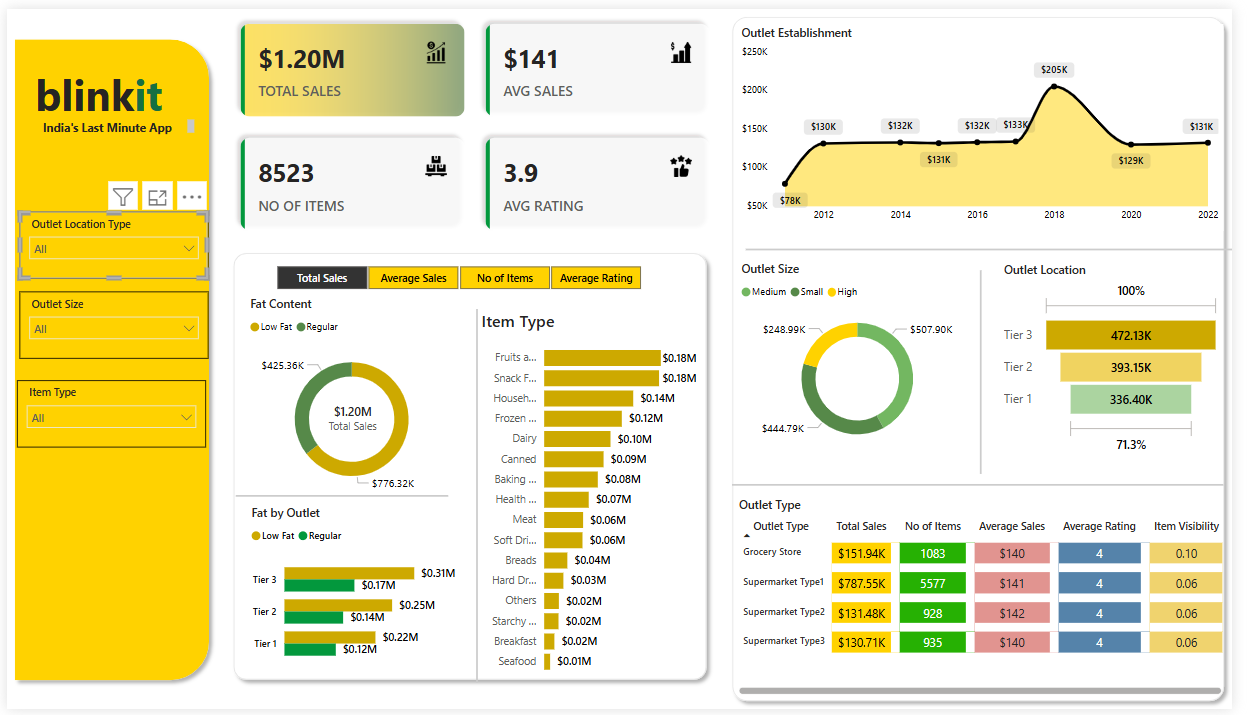

Layout of this report page (visuals, bound fields, positions):
{"tool":"powerbi","page":{"name":"Page 1","canvas":[1400,800],"ordinal":0},"visuals":[{"type":"shape","box":[0,25.5,240,750.4],"z":0},{"type":"textbox","box":[0,60,210,73.8],"z":1000},{"type":"textbox","box":[36.2,121.2,183.8,26.2],"z":2000},{"type":"cardVisual","fields":{"Data":["BlinkIT Grocery Data.Total Sales","BlinkIT Grocery Data.Average Sales","BlinkIT Grocery Data.No of Items","BlinkIT Grocery Data.Average Rating"]},"box":[250,0,570,270],"z":3000},{"type":"shape","box":[250,270,558.6,505.7],"z":4000},{"type":"donutChart","title":"Fat Content","fields":{"Y":["BlinkIT Grocery Data.Total Sales"],"Category":["BlinkIT Grocery Data.Item Fat Content"]},"box":[272.9,327.1,242.9,238.6],"z":5000},{"type":"slicer","fields":{"Values":["Metrics.Metrics"]},"box":[282.9,287.1,465.7,40],"z":6000},{"type":"cardVisual","fields":{"Data":["BlinkIT Grocery Data.Total Sales"]},"box":[340,432.9,110,68.6],"z":7000},{"type":"clusteredBarChart","title":"Fat by Outlet","fields":{"Y":["BlinkIT Grocery Data.Total Sales"],"Category":["BlinkIT Grocery Data.Outlet Location Type"],"Series":["BlinkIT Grocery Data.Item Fat Content"]},"box":[274.3,565.7,242.9,194.3],"z":8000},{"type":"shape","box":[261.4,531.4,242.9,50],"z":9000},{"type":"shape","box":[515.7,342.9,42.9,427.1],"z":10000},{"type":"barChart","title":"Item Type","fields":{"Y":["BlinkIT Grocery Data.Total Sales"],"Category":["BlinkIT Grocery Data.Item Type"]},"box":[537.1,342.9,255.7,427.1],"z":11000},{"type":"shape","box":[820,0,580,800],"z":12000},{"type":"lineChart","title":"Outlet Establishment","fields":{"Category":["BlinkIT Grocery Data.Outlet Establishment Year"],"Y":["BlinkIT Grocery Data.Total Sales"]},"box":[834.3,17.1,555.7,235.7],"z":13000},{"type":"shape","box":[844.3,262.9,555.7,24.3],"z":14000},{"type":"donutChart","title":"Outlet Size","fields":{"Y":["BlinkIT Grocery Data.Total Sales"],"Category":["BlinkIT Grocery Data.Outlet Size"]},"box":[834.3,287.1,275.7,225.7],"z":15000},{"type":"shape","box":[1091.4,298.6,42.9,232.9],"z":16000},{"type":"funnel","title":"Outlet Location","fields":{"Y":["Sum(BlinkIT Grocery Data.Sales)"],"Category":["BlinkIT Grocery Data.Outlet Location Type"]},"box":[1134.3,288.6,257.1,224.3],"z":17000},{"type":"shape","box":[828.3,531.7,561.7,25],"z":18000},{"type":"pivotTable","title":"Outlet Type","fields":{"Rows":["BlinkIT Grocery Data.Outlet Type"],"Values":["BlinkIT Grocery Data.Total Sales","BlinkIT Grocery Data.No of Items","BlinkIT Grocery Data.Average Sales","BlinkIT Grocery Data.Average Rating","Avg(BlinkIT Grocery Data.Item Visibility)"]},"box":[831.4,557.1,562.9,231.4],"z":19000},{"type":"slicer","fields":{"Values":["BlinkIT Grocery Data.Outlet Location Type"]},"box":[14.3,231.4,215.7,77.1],"z":20000},{"type":"slicer","fields":{"Values":["BlinkIT Grocery Data.Outlet Size"]},"box":[14.3,322.9,215.7,77.1],"z":21000},{"type":"slicer","fields":{"Values":["BlinkIT Grocery Data.Item Type"]},"box":[11.4,424.3,215.7,77.1],"z":22000}]}

Visuals, with their boxes in screenshot pixels (x1, y1, x2, y2), scaled from the page's 1400x800 canvas onto the 1248x715 screenshot:
shape: (left=0, top=23, right=214, bottom=693)
textbox: (left=0, top=54, right=187, bottom=120)
textbox: (left=32, top=108, right=196, bottom=132)
cardVisual - BlinkIT Grocery Data.Total Sales x BlinkIT Grocery Data.Average Sales: (left=223, top=0, right=731, bottom=241)
shape: (left=223, top=241, right=721, bottom=693)
"Fat Content" donutChart: (left=243, top=292, right=460, bottom=506)
slicer - Metrics.Metrics: (left=252, top=257, right=667, bottom=292)
cardVisual - BlinkIT Grocery Data.Total Sales: (left=303, top=387, right=401, bottom=448)
"Fat by Outlet" clusteredBarChart: (left=245, top=506, right=461, bottom=679)
shape: (left=233, top=475, right=450, bottom=520)
shape: (left=460, top=306, right=498, bottom=688)
"Item Type" barChart: (left=479, top=306, right=707, bottom=688)
shape: (left=731, top=0, right=1247, bottom=714)
"Outlet Establishment" lineChart: (left=744, top=15, right=1239, bottom=226)
shape: (left=753, top=235, right=1247, bottom=257)
"Outlet Size" donutChart: (left=744, top=257, right=989, bottom=458)
shape: (left=973, top=267, right=1011, bottom=475)
"Outlet Location" funnel: (left=1011, top=258, right=1240, bottom=458)
shape: (left=738, top=475, right=1239, bottom=498)
"Outlet Type" pivotTable: (left=741, top=498, right=1243, bottom=705)
slicer - BlinkIT Grocery Data.Outlet Location Type: (left=13, top=207, right=205, bottom=276)
slicer - BlinkIT Grocery Data.Outlet Size: (left=13, top=289, right=205, bottom=358)
slicer - BlinkIT Grocery Data.Item Type: (left=10, top=379, right=202, bottom=448)
